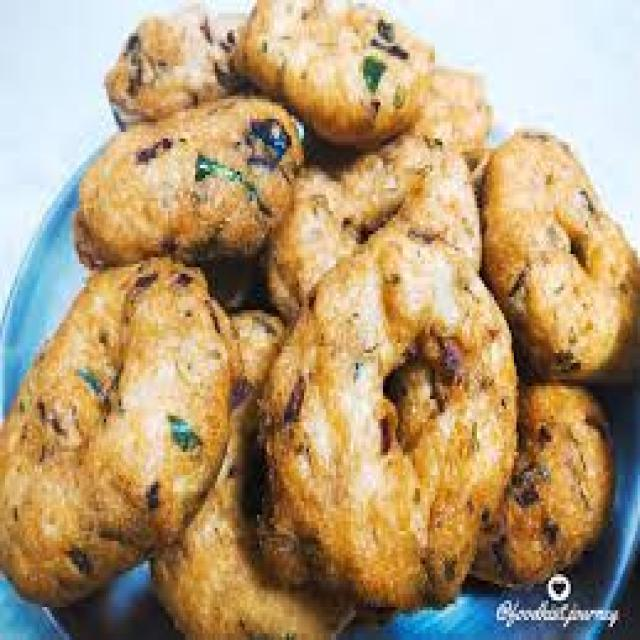MEDU VADA: (267, 227, 524, 625), (0, 241, 243, 599), (147, 316, 349, 637), (104, 0, 437, 151), (78, 75, 308, 273), (483, 116, 638, 395), (268, 123, 490, 307), (470, 375, 622, 601)
